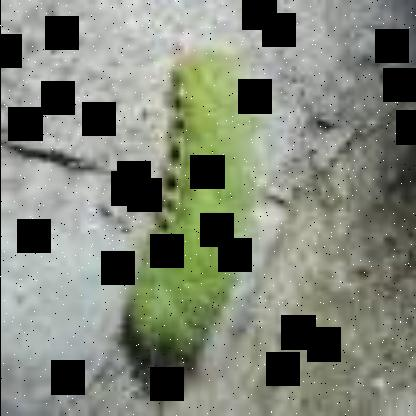oruga: (118, 35, 263, 392)
